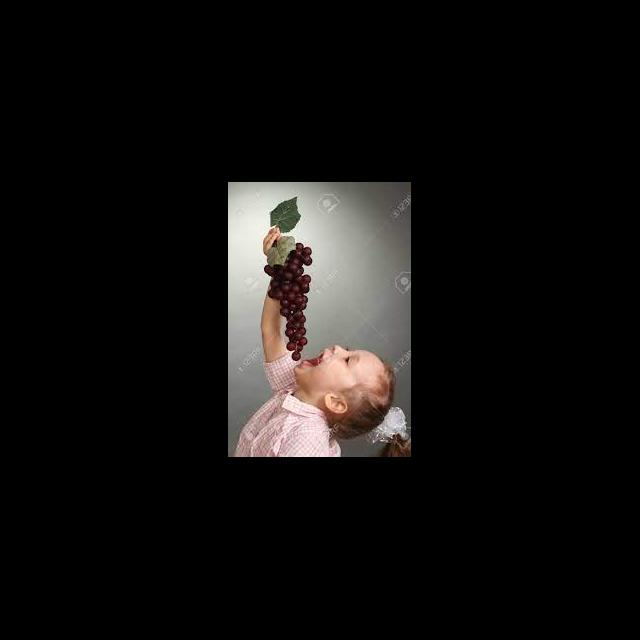grape: (264, 242, 312, 362)
